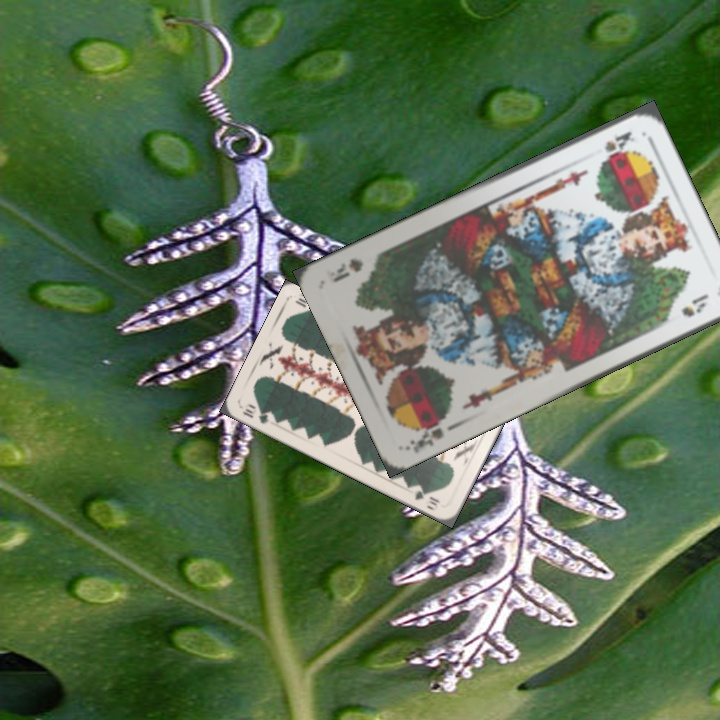G10: (238, 404, 271, 426)
SK: (403, 412, 449, 456), (600, 127, 637, 160)
